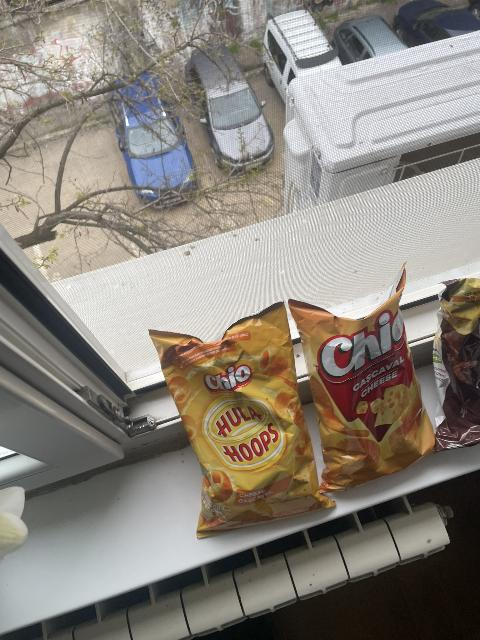Chio Cascaval 125g: (293, 279, 418, 490)
Chio Hula Hoops Cheese 70g: (148, 301, 328, 531)
Lays Beef Grilled Ribs 125g: (428, 282, 478, 449)
